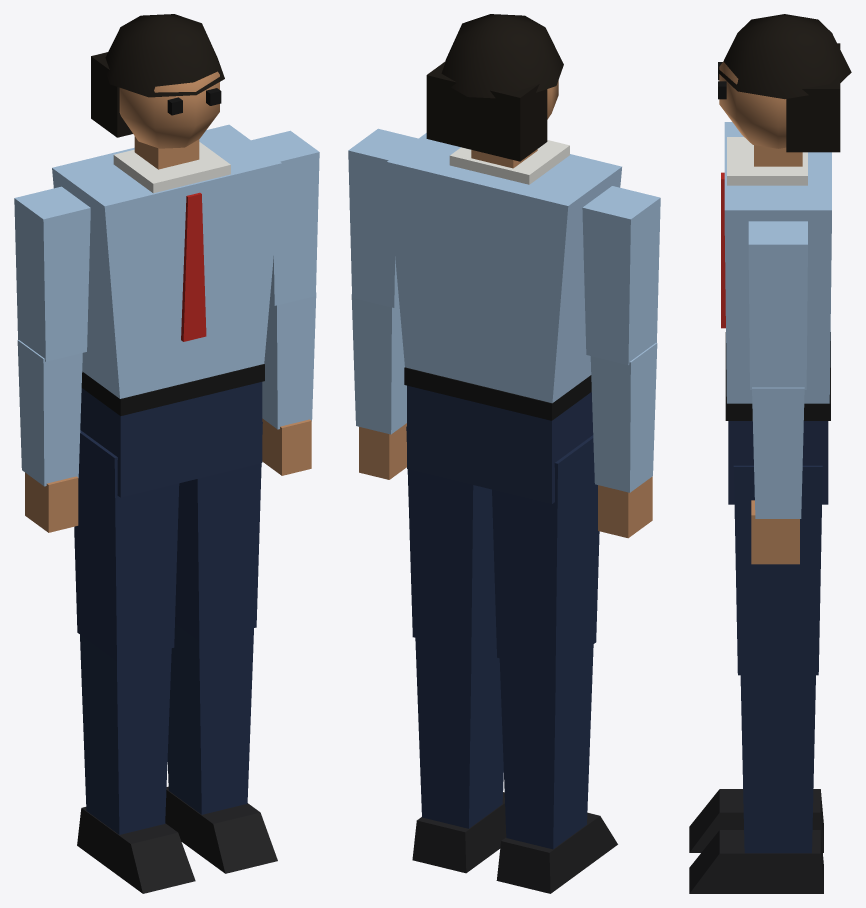
Rendered from npc_pegawai.glb.
The picture shows the model from 3 angles, left to right: view 1: azimuth 30°, elevation 25°; view 2: azimuth 150°, elevation 25°; view 3: azimuth 270°, elevation 25°; orthographic projection. The views are drawn at different scales.
Parts seen in each view (by area): view 1: torso, leg_r, leg_l, arm_r, arm_l, head; view 2: torso, leg_r, leg_l, arm_r, arm_l, head; view 3: leg_l, torso, arm_l, head, leg_r.
Boxes of the visible parts, x1,y1,x2,y2 form: torso: [52, 124, 281, 497]; leg_r: [74, 430, 195, 893]; leg_l: [165, 422, 277, 873]; arm_r: [14, 186, 90, 532]; arm_l: [251, 130, 319, 475]; head: [91, 14, 224, 148]; torso: [386, 133, 621, 503]; leg_r: [492, 435, 617, 893]; leg_l: [406, 426, 506, 873]; arm_r: [582, 186, 660, 538]; arm_l: [348, 128, 418, 479]; head: [426, 14, 563, 161]; leg_l: [689, 465, 823, 893]; torso: [721, 122, 831, 504]; arm_l: [748, 221, 807, 564]; head: [718, 14, 851, 152]; leg_r: [689, 789, 823, 852].
Size of the model in its own units: 0.6035 by 1.73 by 0.301.
